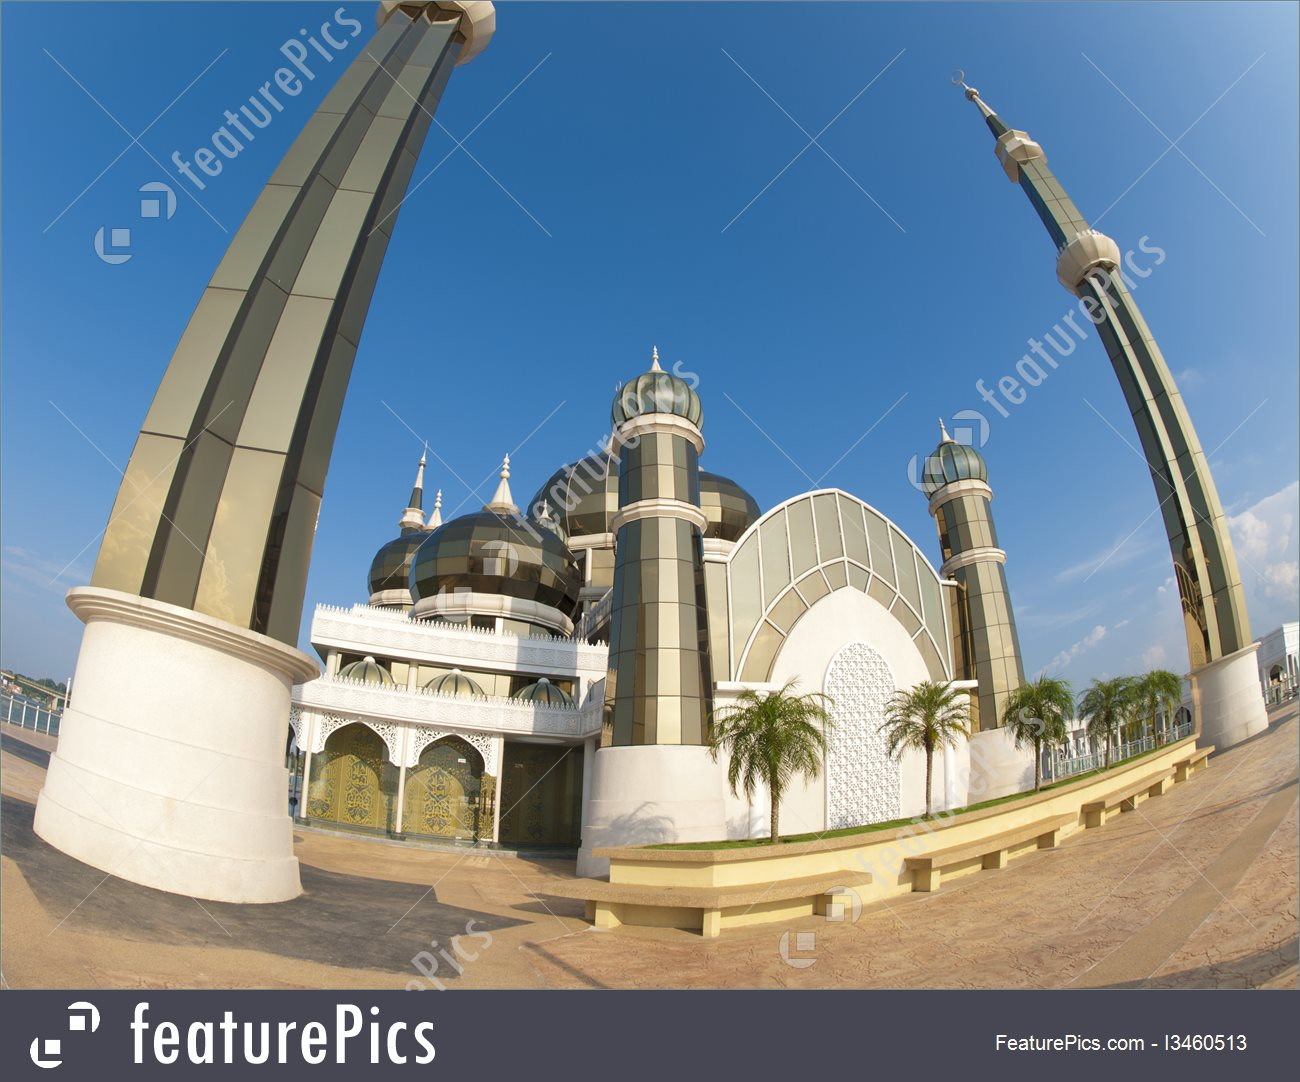Mosque: (86, 9, 1274, 823)
